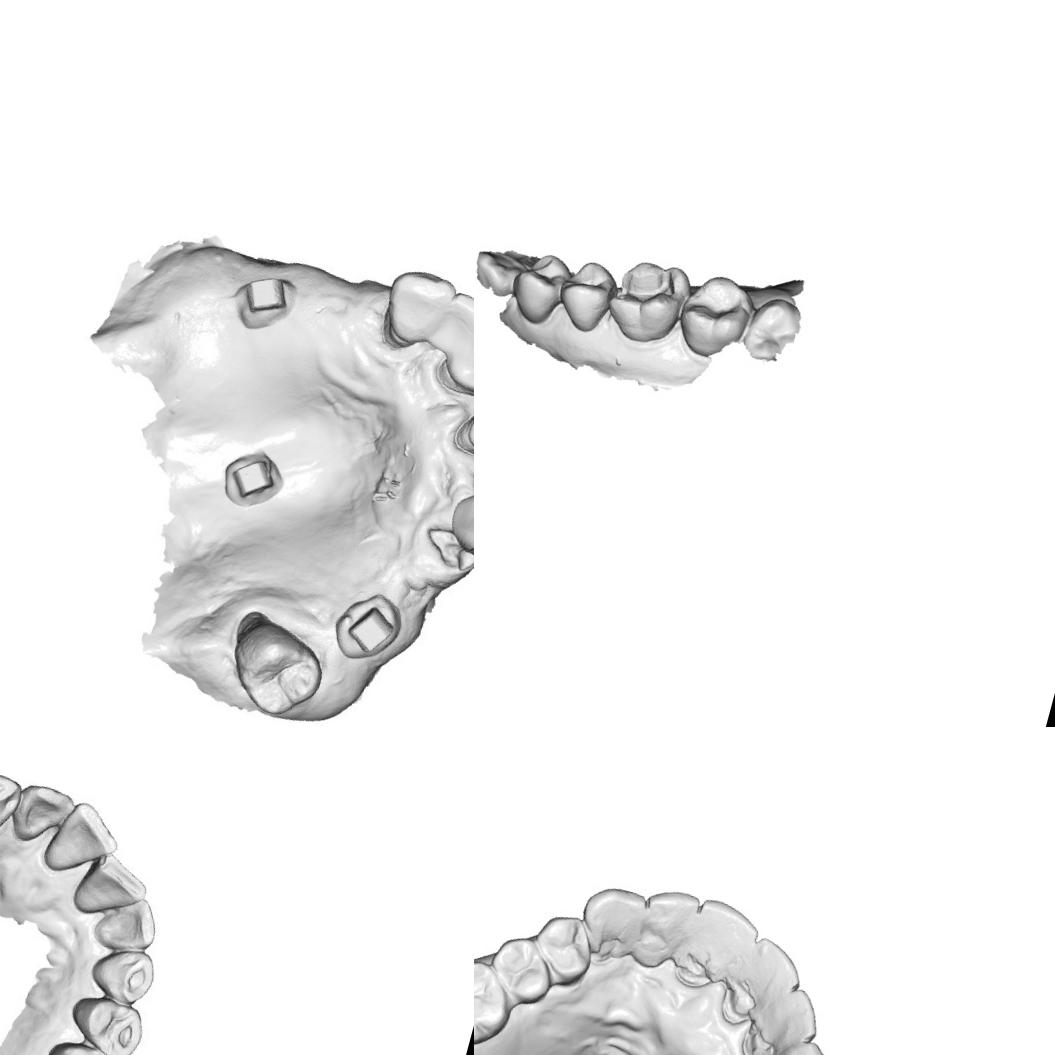canine: (376, 263, 458, 350), (572, 878, 649, 960), (85, 938, 162, 1010), (746, 1027, 839, 1055), (441, 486, 474, 561), (0, 765, 23, 840)
incisor: (40, 793, 126, 882), (682, 893, 766, 980), (66, 846, 154, 925), (734, 932, 811, 1014), (753, 978, 829, 1055), (632, 881, 704, 962), (90, 887, 164, 961), (8, 774, 78, 852), (434, 292, 474, 364), (440, 326, 474, 401)
molar: (218, 608, 339, 727), (601, 251, 693, 351), (671, 266, 758, 363), (474, 951, 523, 1055)
premolar: (480, 927, 563, 1012), (522, 904, 602, 988), (502, 244, 576, 331), (58, 986, 149, 1055), (552, 254, 623, 339), (38, 1033, 124, 1055)
